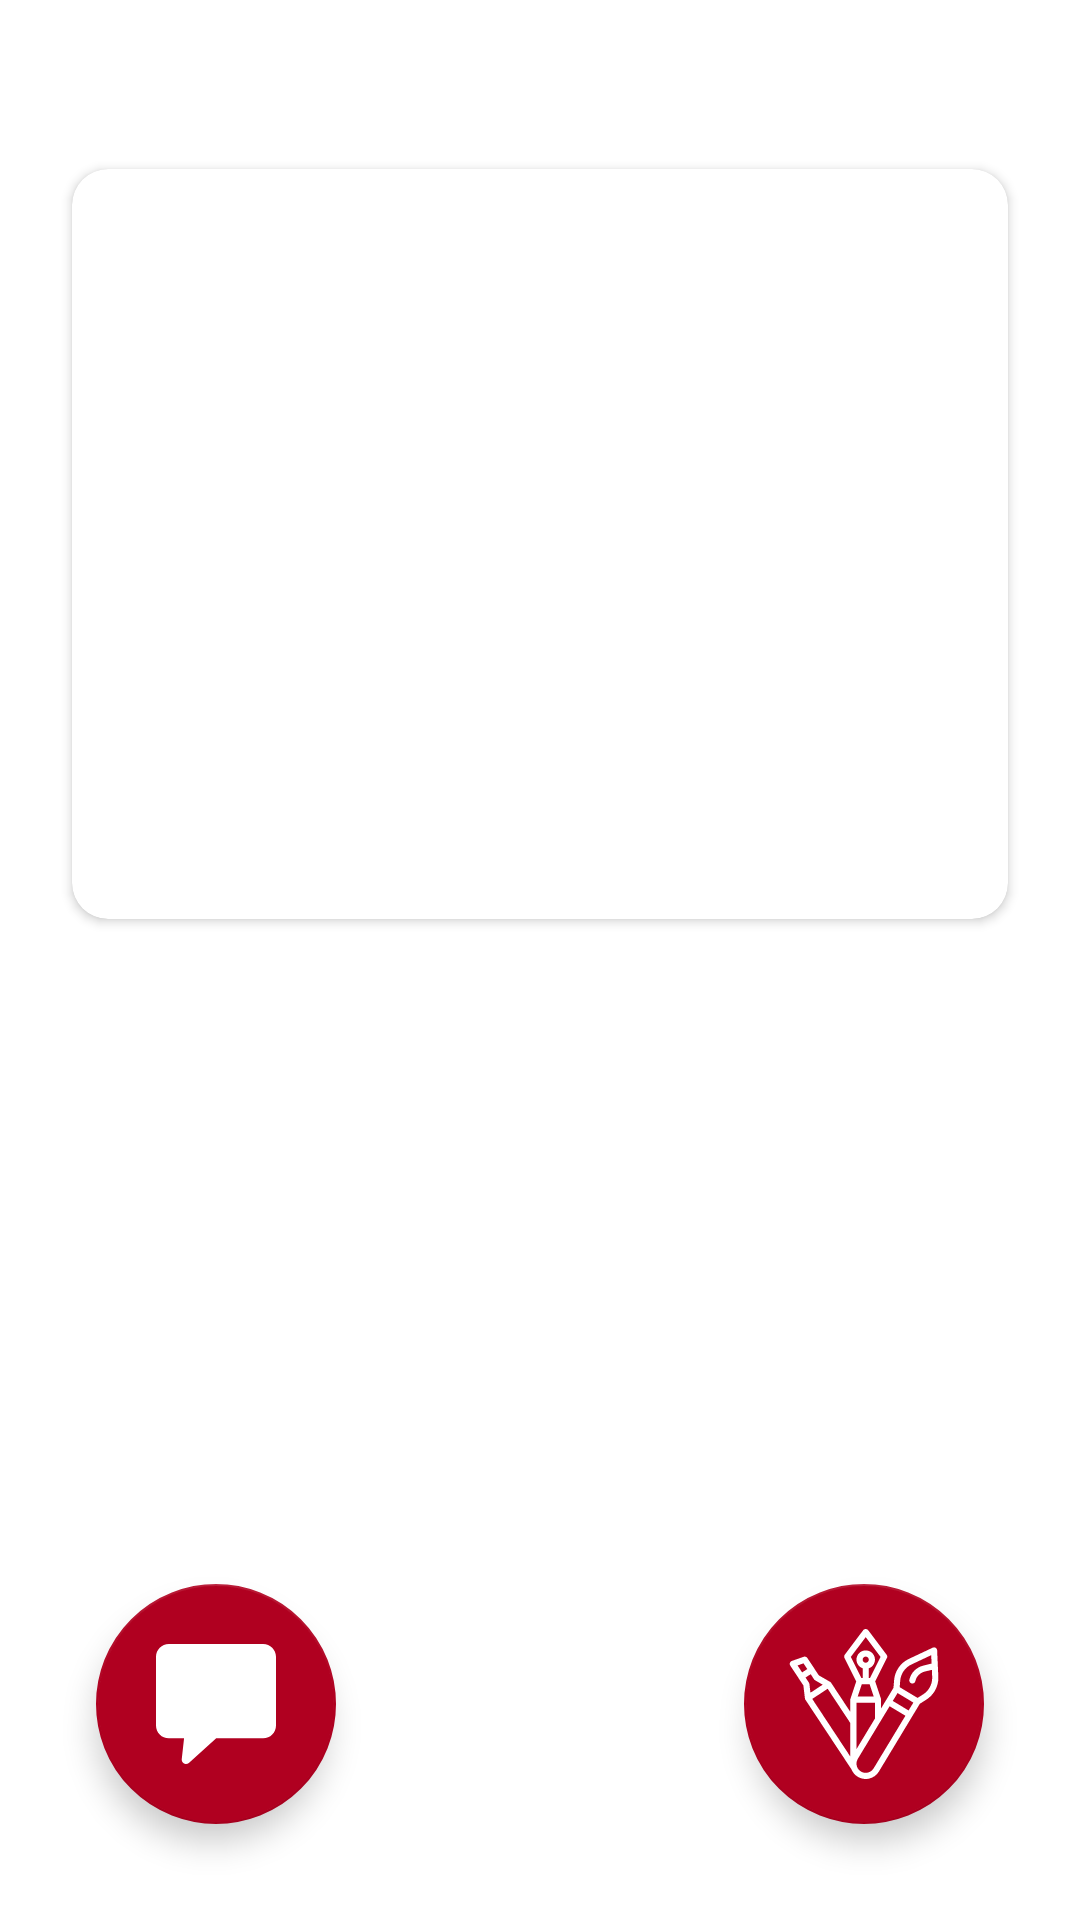

Screen size 1080px×1920px. Icon name, then its center in pixels as (x,y):
chat: (216,1704)
draw: (864,1704)
